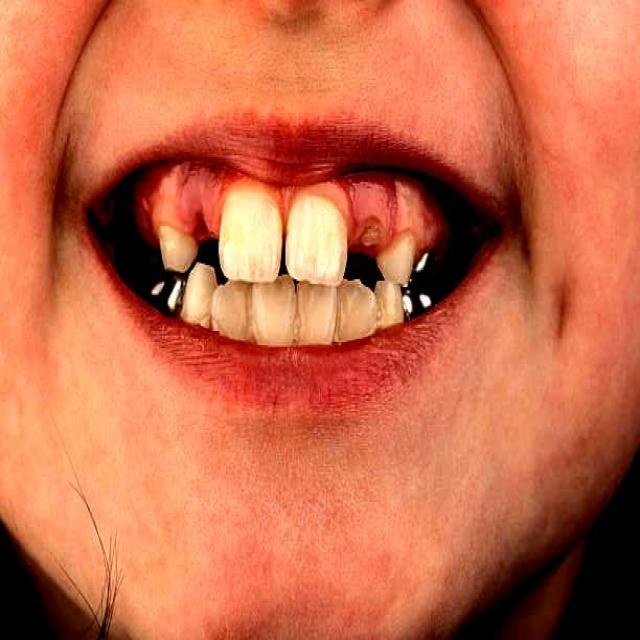caries: (353, 209, 394, 262)
